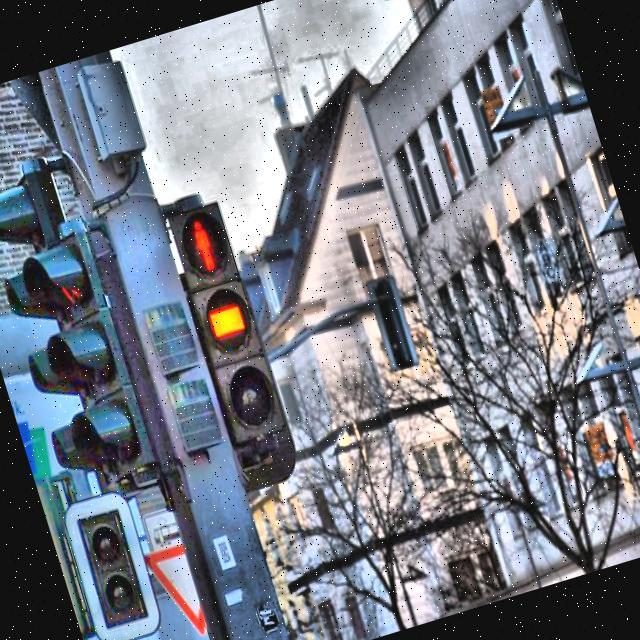red_light: (188, 217, 220, 275)
